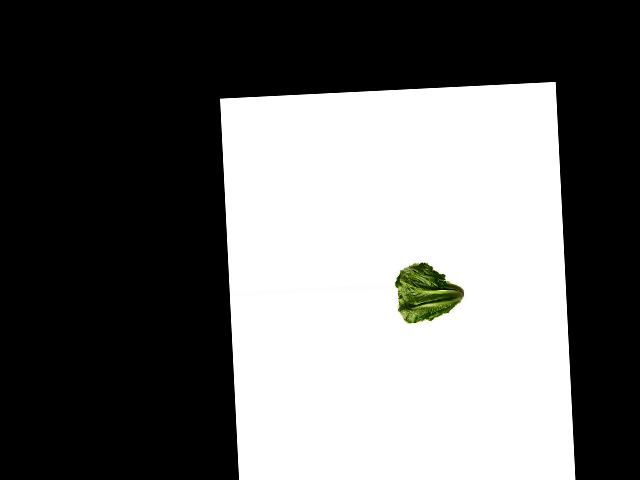lettuce: (393, 258, 468, 321)
